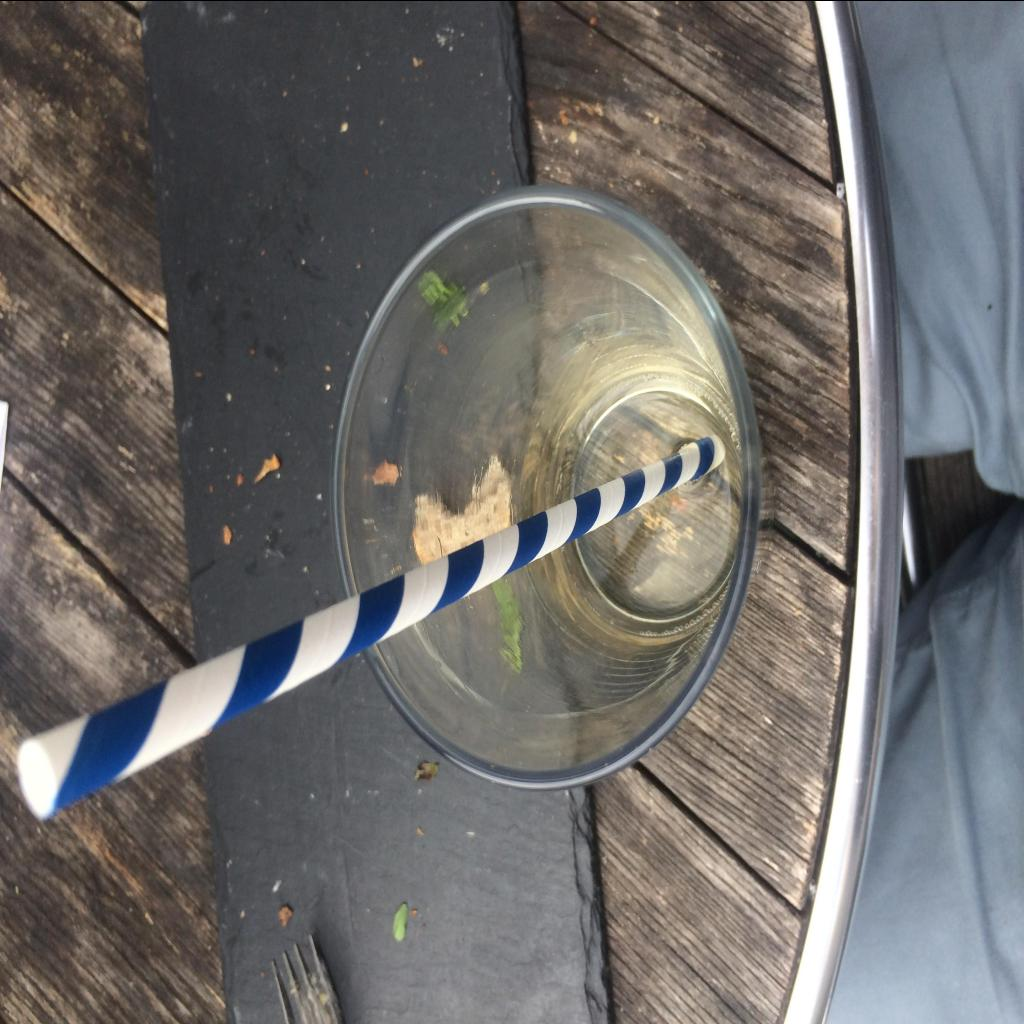Glass cup: (332, 184, 762, 788)
Paper straw: (19, 436, 725, 816)
